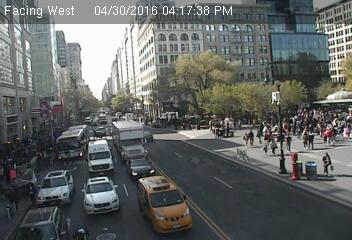neg: (134, 95, 147, 113), (99, 137, 112, 154), (119, 156, 132, 173), (150, 87, 161, 102), (108, 155, 116, 166)
pos: (316, 151, 337, 178), (281, 132, 296, 151), (240, 131, 252, 147)
